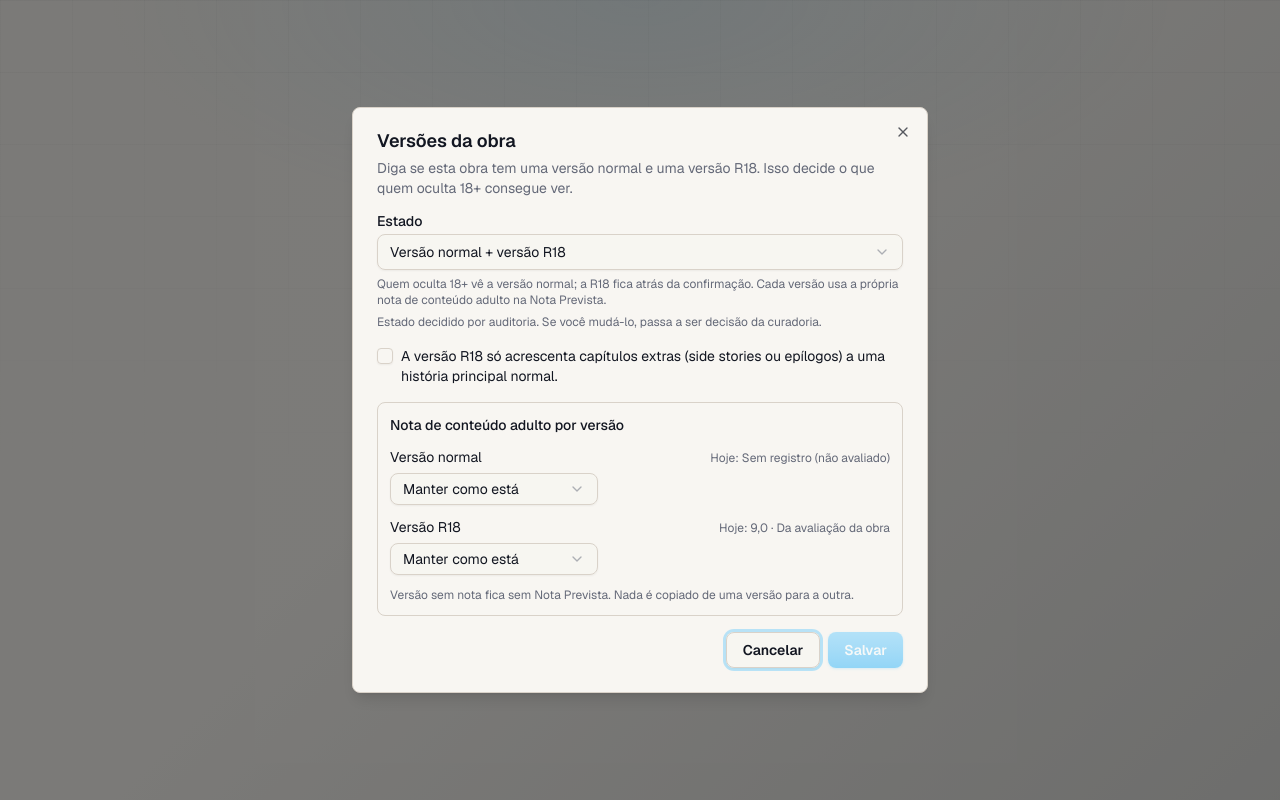
Test: diálogo Versões da obra › nota fora da grade avisa e trava o Salvar
The width and height of the screenshot is (1280, 800).
Check: the text "Estado" is shown, box [377,212,422,230]
Press Space in the dropdown named "Nota da Versão R18", box [390,543,598,575]
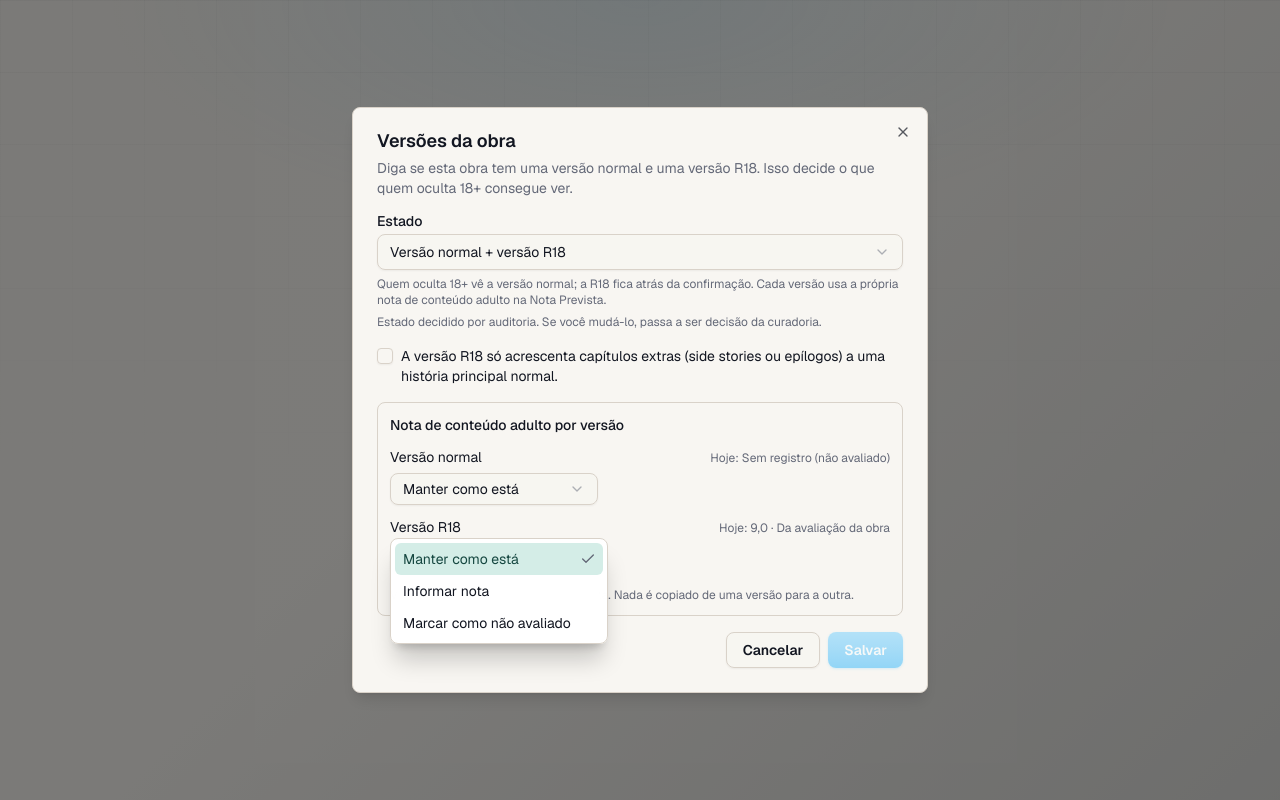
Click the option "Informar nota" at (446, 591), box [403,582,489,600]
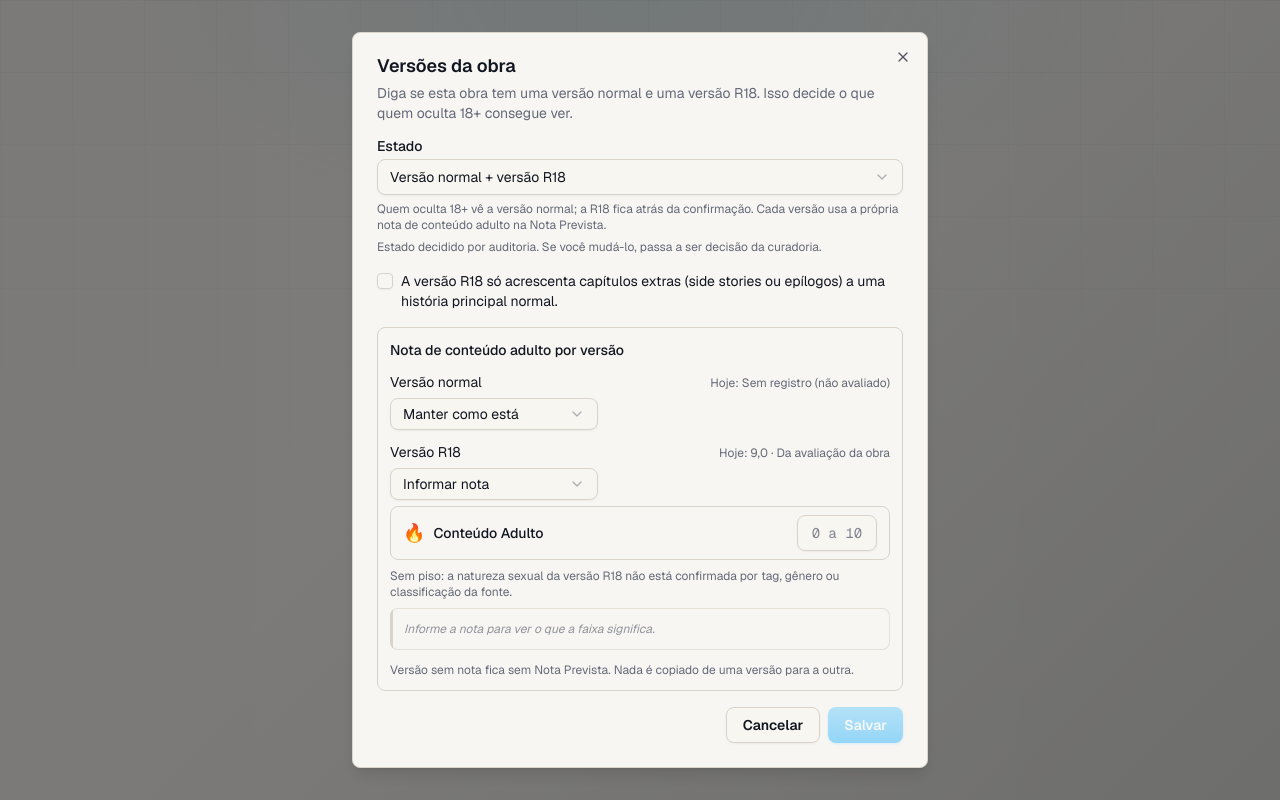
Type "8,3" into the field named "Versão R18" at (837, 533), box [797,515,877,551]
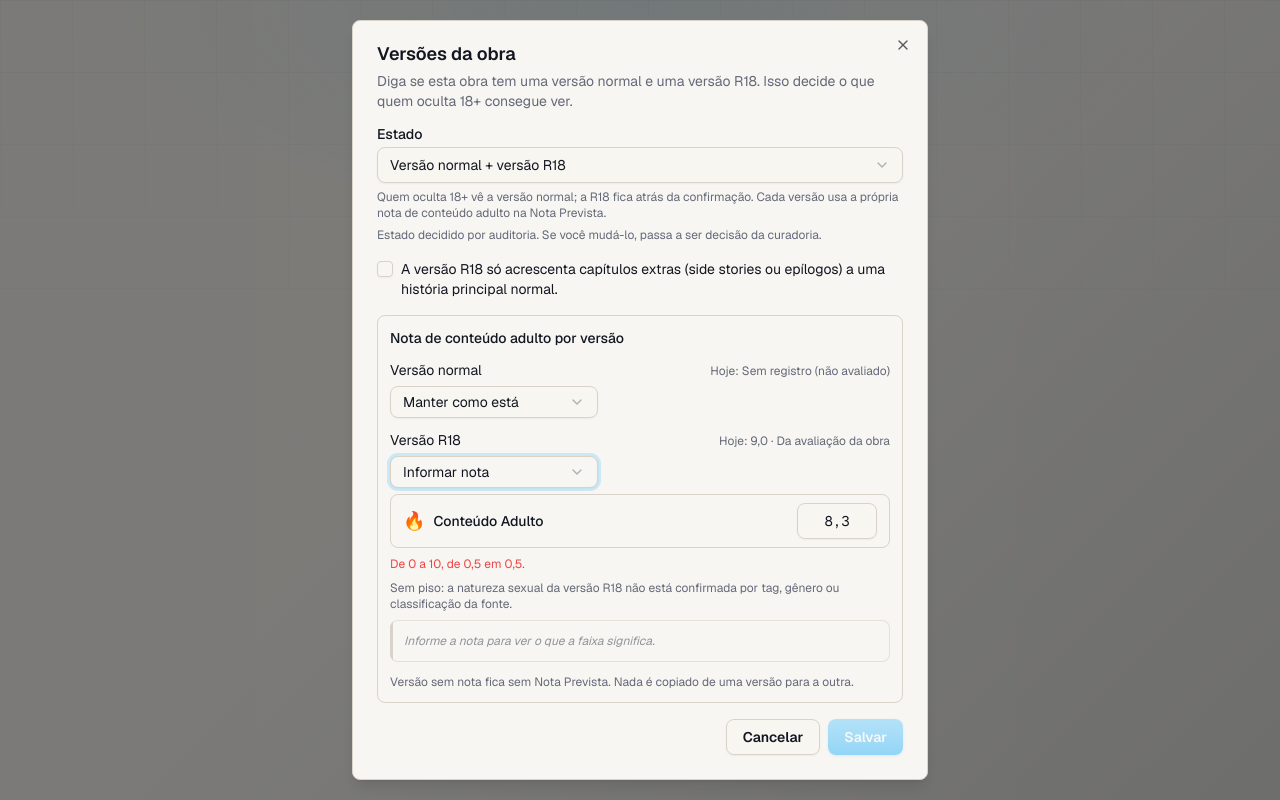
Check: the button "Salvar" is disabled, box [828,719,903,755]
Check: the text "De 0 a 10, de 0,5 em 0,5." is shown, box [390,556,525,572]
